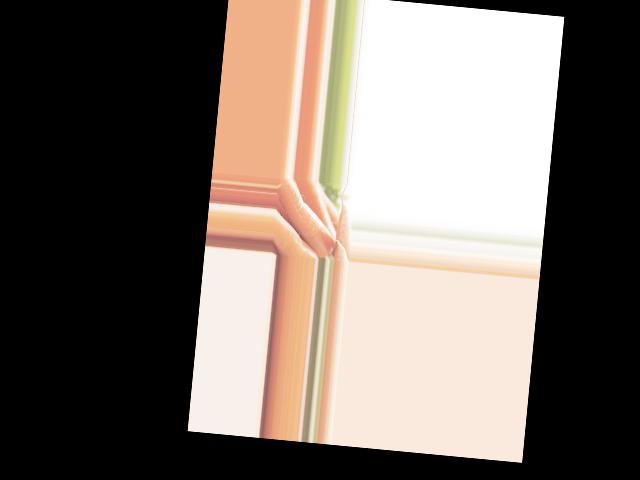carrot: (297, 187, 344, 242)
